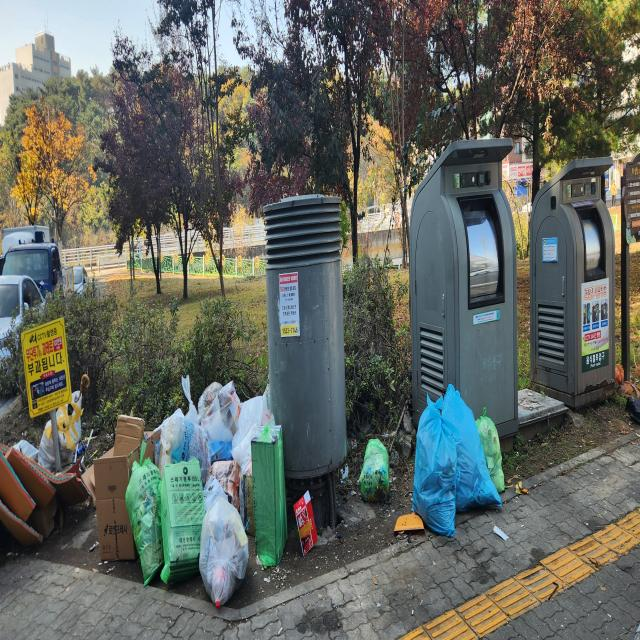CleanNet: (410, 139, 518, 445), (532, 155, 617, 406)
General Waste: (161, 390, 276, 592), (88, 418, 203, 566), (412, 390, 503, 530), (251, 426, 288, 569), (160, 461, 206, 576), (129, 460, 166, 586), (477, 408, 508, 491), (360, 437, 390, 511)
Large Waste Items: (0, 437, 57, 563)
